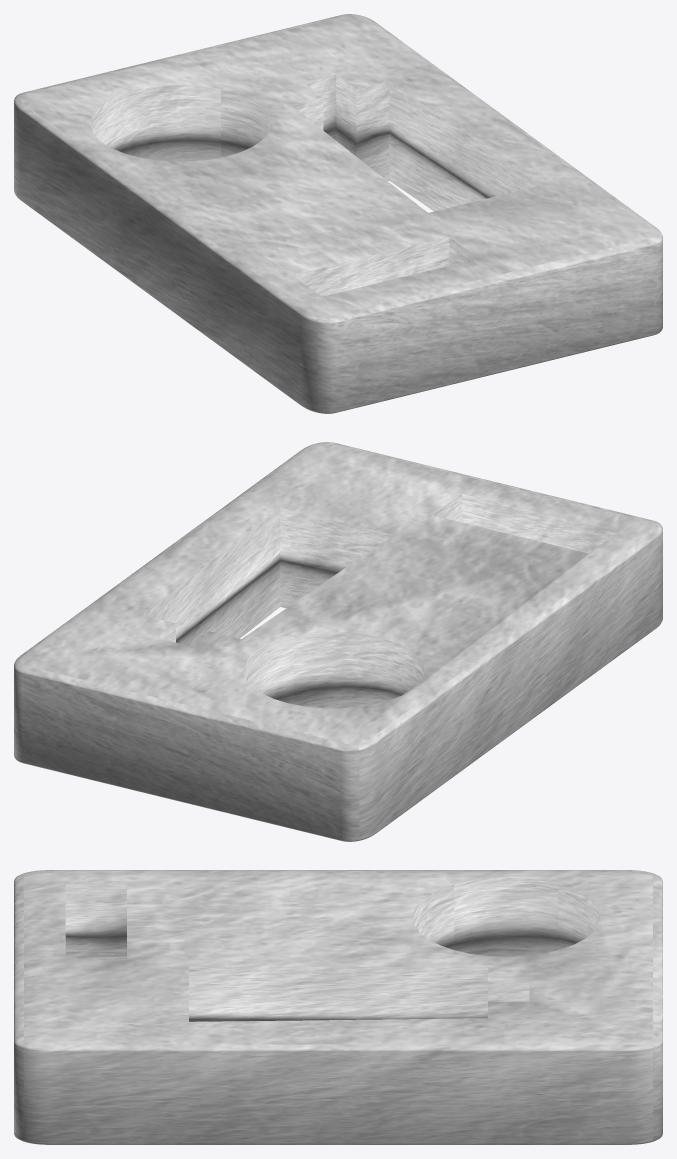
Rendered from Model22Fifth.gltf.
3 renders of one model, top to bottom at view 1: azimuth 30°, elevation 25°; view 2: azimuth 150°, elevation 25°; view 3: azimuth 270°, elevation 25°, orthographic. The views are drawn at different scales.
Parts seen in each view (by area): view 1: Cube; view 2: Cube; view 3: Cube.
Part boxes in pixels (bbox=[...]): Cube: bbox=[14, 14, 662, 413]; Cube: bbox=[14, 442, 662, 841]; Cube: bbox=[14, 870, 662, 1144].
Bounding box in the file's own units: 4.54 × 1.21 × 6.93.
1 material, 1 textured.
